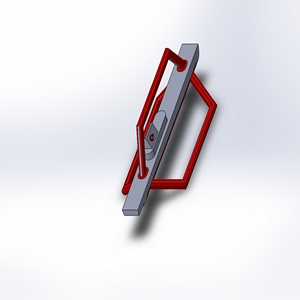submarine: (114, 31, 220, 220)
